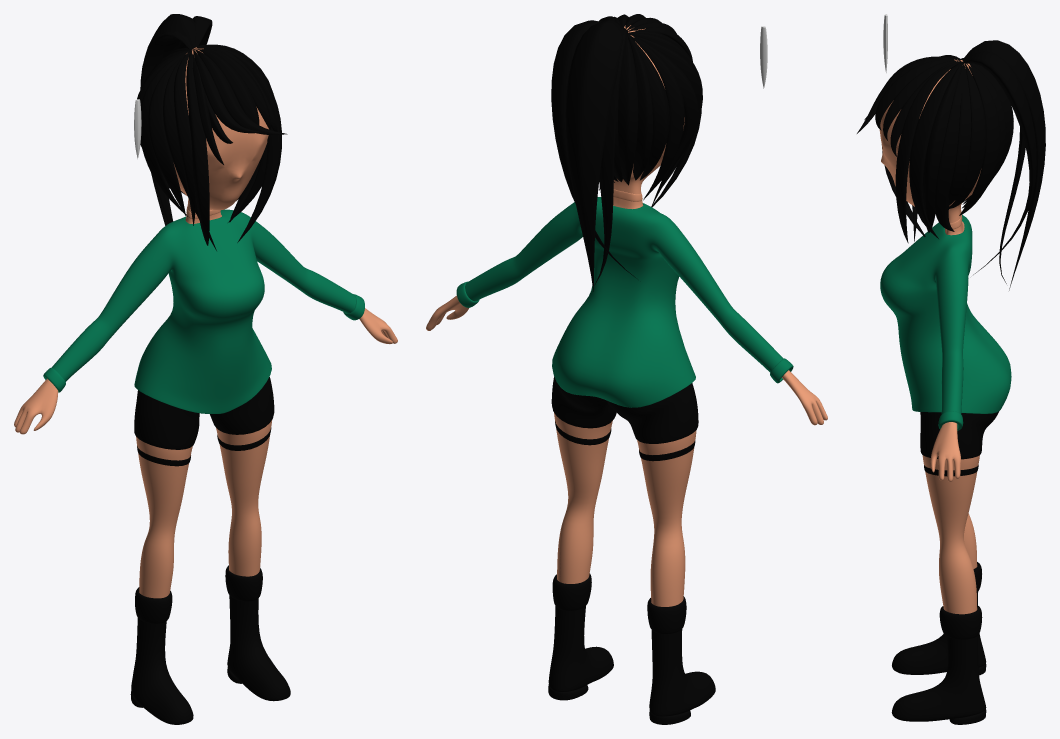
File: pulli 1.fbx
3 views of the same model, side by side, from view 1: azimuth 30°, elevation 25°; view 2: azimuth 150°, elevation 25°; view 3: azimuth 270°, elevation 25° (orthographic). The views are drawn at different scales.
Parts seen in each view (by area): view 1: Cylinder.001, Cylinder, Cylinder.004, Cylinder.003, NurbsPath.007, NurbsPath.023, NurbsPath.010, NurbsPath.008, NurbsPath.013, NurbsPath.009, NurbsPath.002, NurbsPath.020 (+7 smaller); view 2: Cylinder.001, Cylinder, Cylinder.004, NurbsPath.018, Cylinder.003, NurbsPath.017, NurbsPath.015, NurbsPath.020, NurbsPath.013, NurbsPath.012, NurbsPath.014, NurbsPath.010 (+4 smaller); view 3: Cylinder.001, Cylinder, Cylinder.004, NurbsPath.018, NurbsPath.017, NurbsPath.027, NurbsPath.023, NurbsPath.029, NurbsPath.028, Cylinder.003, NurbsPath.022, NurbsPath.024 (+8 smaller).
Boxes of the visible parts, x1,y1,x2,y2 form: Cylinder.001: (43, 209, 364, 413); Cylinder: (14, 47, 397, 598); Cylinder.004: (130, 565, 290, 724); Cylinder.003: (134, 377, 274, 449); NurbsPath.007: (186, 50, 209, 245); NurbsPath.023: (197, 46, 281, 242); NurbsPath.010: (148, 55, 185, 215); NurbsPath.008: (173, 50, 195, 225); NurbsPath.013: (140, 51, 189, 217); NurbsPath.009: (163, 55, 216, 250); NurbsPath.002: (194, 49, 287, 134); NurbsPath.020: (140, 31, 192, 223); Cylinder.001: (456, 197, 793, 407); Cylinder: (426, 25, 827, 606); Cylinder.004: (548, 573, 715, 724); NurbsPath.018: (565, 19, 623, 291); Cylinder.003: (551, 376, 698, 443); NurbsPath.017: (551, 20, 636, 278); NurbsPath.015: (618, 35, 638, 185); NurbsPath.020: (594, 27, 627, 285); NurbsPath.013: (628, 34, 684, 198); NurbsPath.012: (627, 34, 669, 180); NurbsPath.014: (627, 34, 652, 180); NurbsPath.010: (633, 36, 698, 200); Cylinder.001: (880, 215, 1011, 430); Cylinder: (879, 59, 981, 614); Cylinder.004: (891, 562, 986, 724); NurbsPath.018: (963, 40, 1045, 290); NurbsPath.017: (963, 51, 1036, 274); NurbsPath.027: (909, 62, 961, 238); NurbsPath.023: (895, 61, 962, 243); NurbsPath.029: (934, 65, 963, 231); NurbsPath.028: (922, 61, 963, 232); Cylinder.003: (920, 411, 999, 459); NurbsPath.022: (959, 63, 1000, 215); NurbsPath.024: (949, 63, 986, 208).
Size of the model in its own units: 138 by 232 by 61.06.
